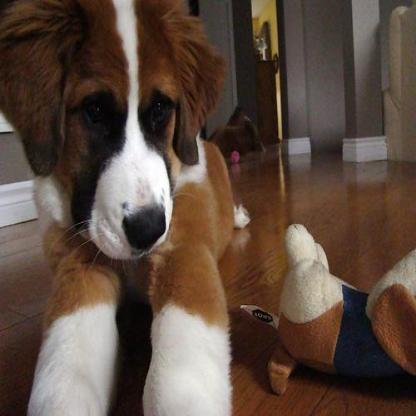Saint_Bernard: (0, 1, 239, 412)
